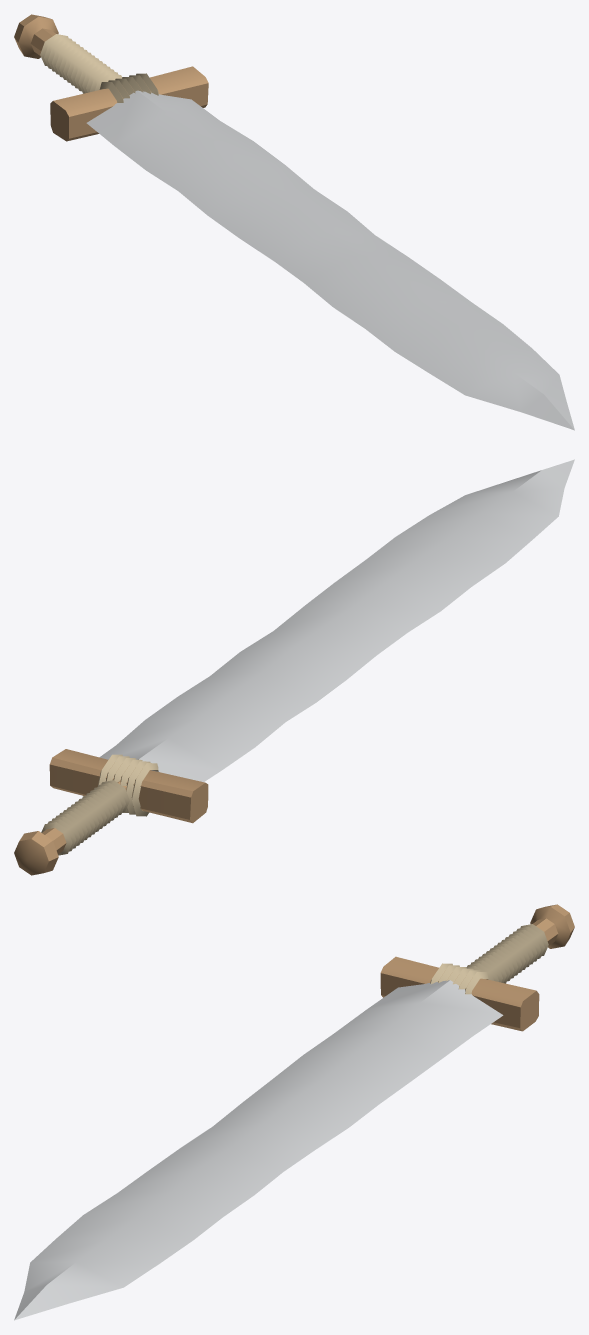
The model's file is StoneSword.fbx.
3 views of the same model, one above another, from view 1: azimuth 30°, elevation 25°; view 2: azimuth 150°, elevation 25°; view 3: azimuth 330°, elevation 25° (orthographic).
Visible parts, largest first — view 1: StoneSword; view 2: StoneSword; view 3: StoneSword.
Boxes of the visible parts, x1,y1,x2,y2 form: StoneSword: (14, 14, 574, 430); StoneSword: (14, 459, 574, 875); StoneSword: (14, 904, 574, 1320).
Size of the model in its own units: 0.4031 by 0.146 by 2.71.
